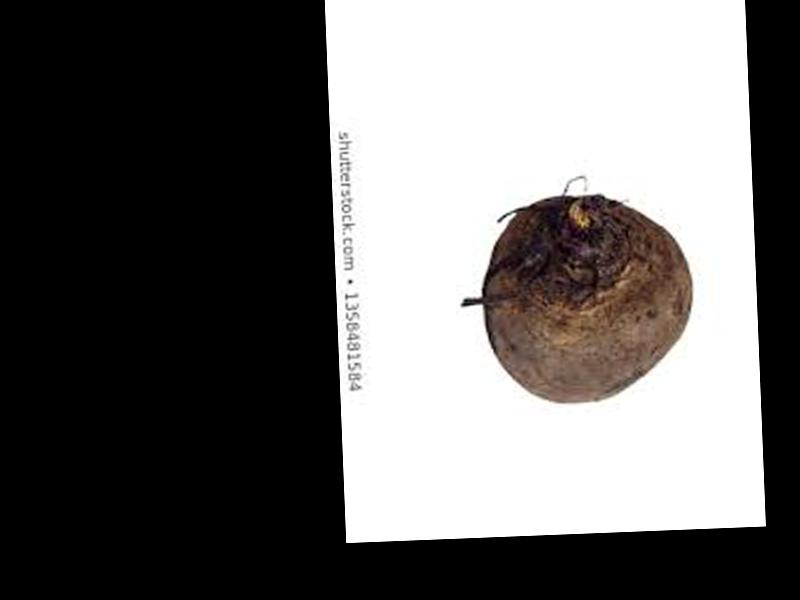Beet: (480, 193, 696, 408)
